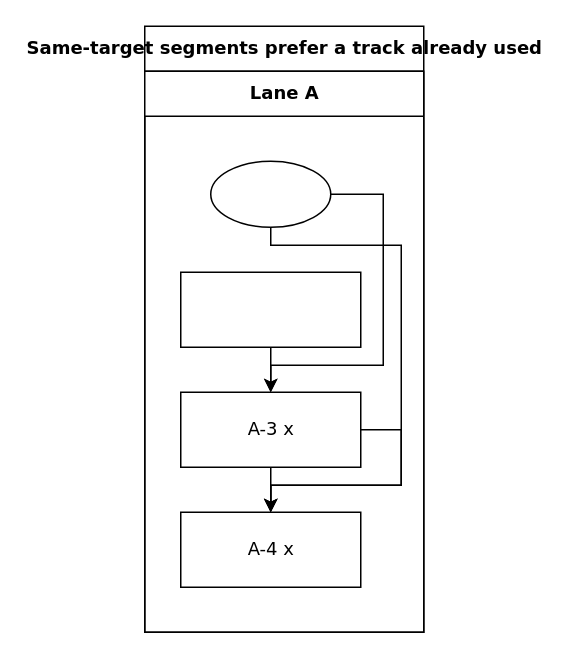
Image size: 567x659. Some labels were removed from this diagram. The box of each missing label's shape, as (x1, y1, x2, y2) in pixels:
A-1 x: (209, 160, 331, 227)
A-2 x: (179, 271, 361, 347)
